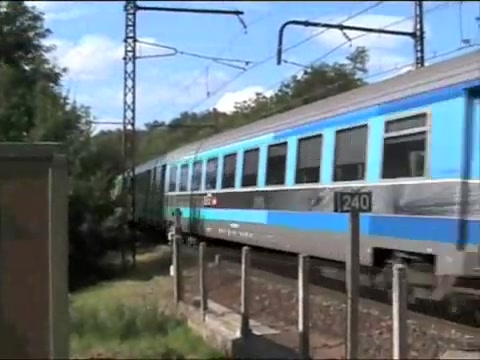train: (109, 47, 480, 320)
